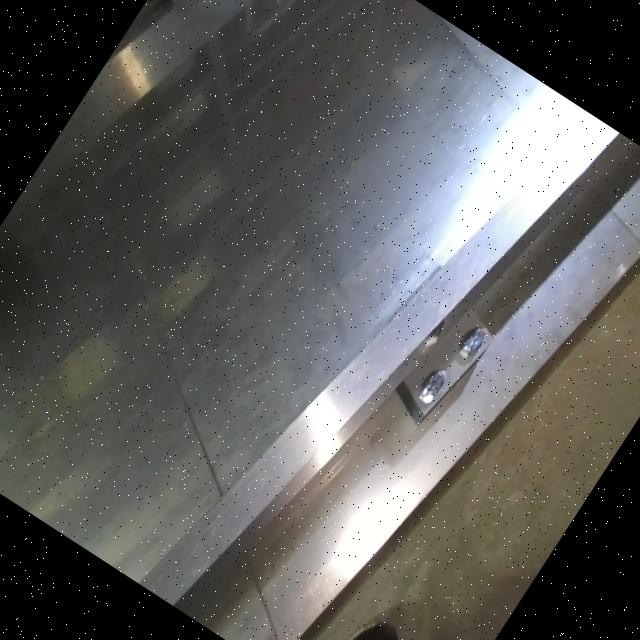blocks: (329, 240, 524, 454), (148, 0, 245, 25)
